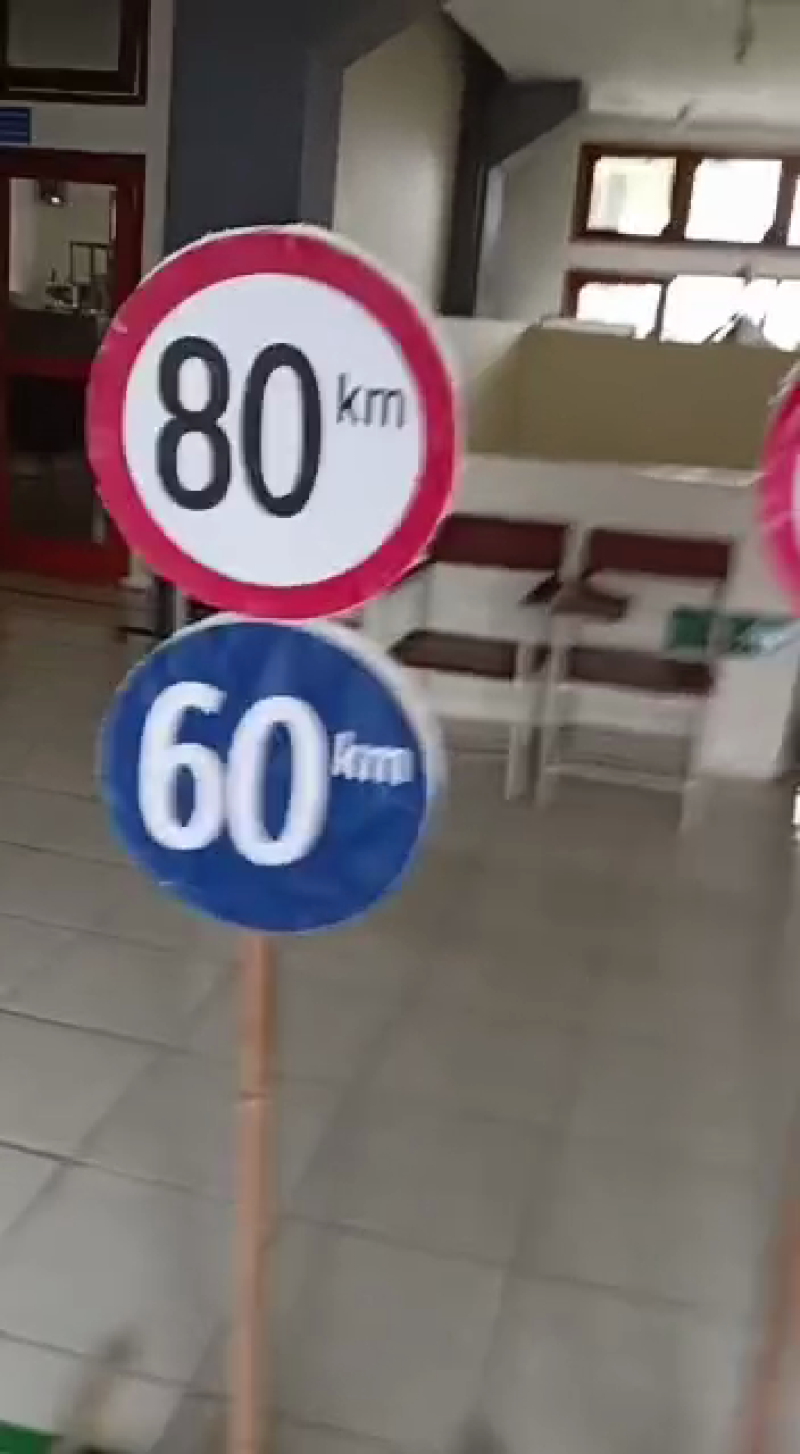batas maksimal 80kmperjam minimal 60kmperjam: (72, 199, 452, 944)
